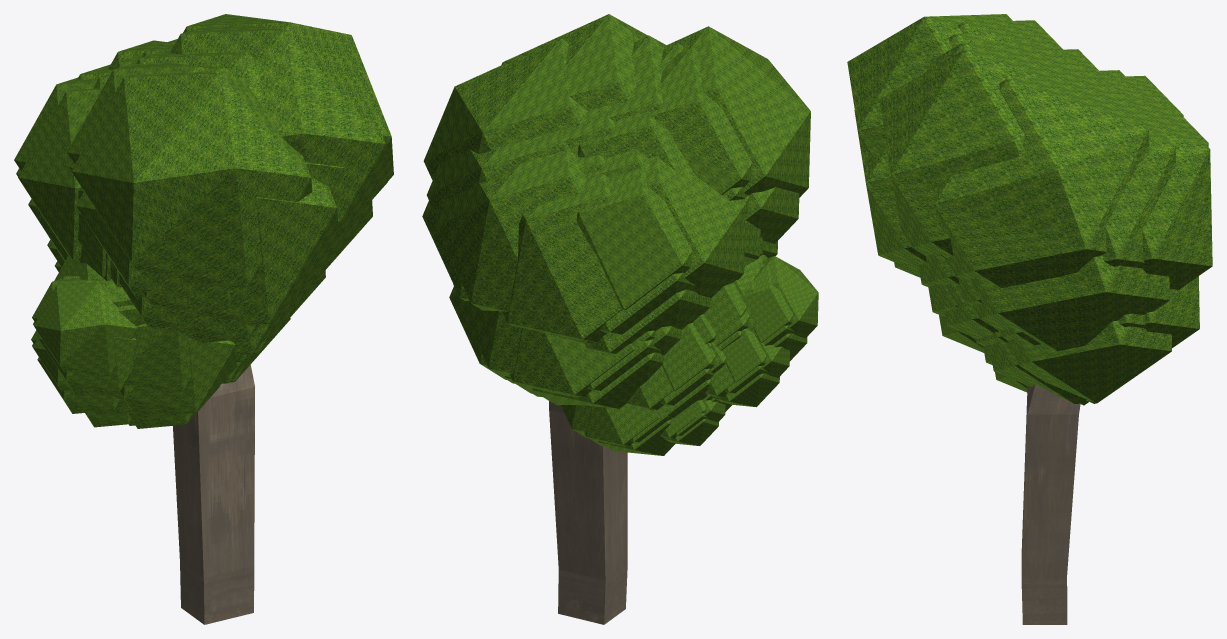
File: tree 3.glb
The picture shows the model from 3 angles, left to right: view 1: azimuth 30°, elevation 25°; view 2: azimuth 150°, elevation 25°; view 3: azimuth 270°, elevation 25°; orthographic projection. The views are drawn at different scales.
Parts seen in each view (by area): view 1: hoja.001, Cube, hoja.002; view 2: hoja.001, hoja.002, Cube; view 3: hoja.001, hoja.002, Cube.
Part boxes in pixels (x1,y1,x2,y2): hoja.001: [14, 14, 393, 417]; Cube: [173, 365, 254, 624]; hoja.002: [47, 237, 290, 428]; hoja.001: [422, 14, 818, 417]; hoja.002: [449, 284, 731, 455]; Cube: [549, 401, 627, 624]; hoja.001: [847, 14, 1212, 352]; hoja.002: [975, 276, 1199, 405]; Cube: [1021, 384, 1080, 624].
Bounding box in the file's own units: 4.34 × 6.92 × 3.98.
5 materials, 3 textured.
